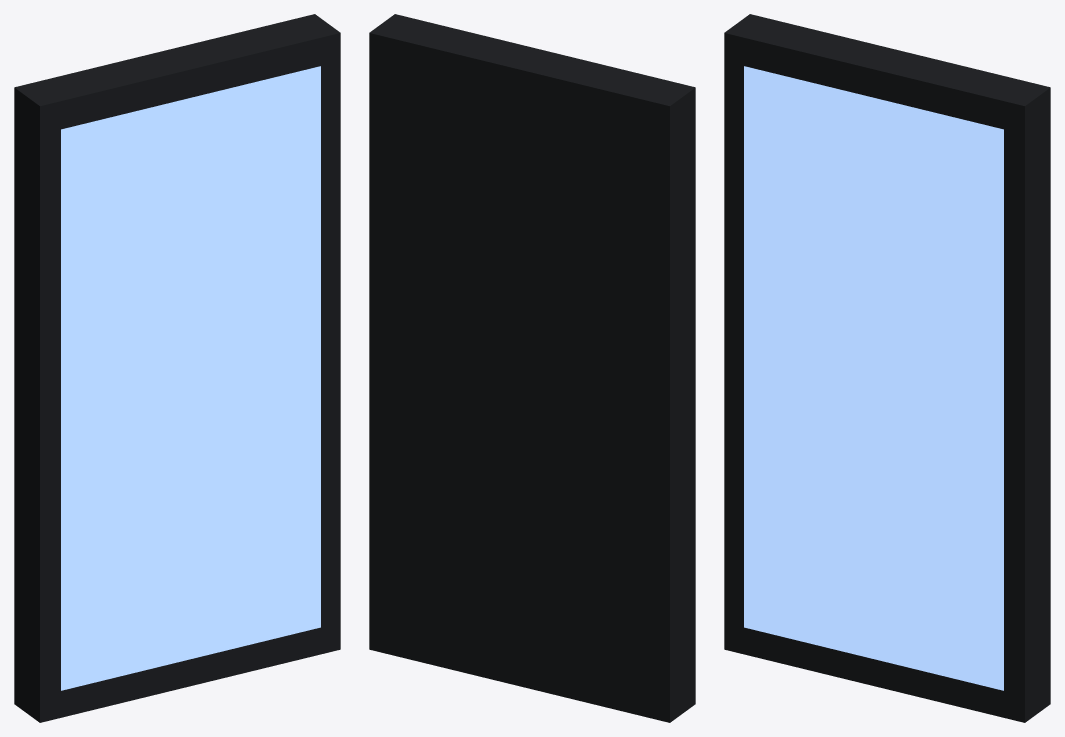
The model's file is prop_phone.fbx.
The picture shows the model from 3 angles, left to right: view 1: azimuth 30°, elevation 25°; view 2: azimuth 150°, elevation 25°; view 3: azimuth 330°, elevation 25°; orthographic projection.
Parts seen in each view (by area): view 1: Prop_Phone_PhoneScreen, Prop_Phone_PhoneBody; view 2: Prop_Phone_PhoneBody; view 3: Prop_Phone_PhoneScreen, Prop_Phone_PhoneBody.
Boxes of the visible parts, box(x1,y1,x2,y2) form: Prop_Phone_PhoneScreen: box(61, 66, 320, 690); Prop_Phone_PhoneBody: box(14, 14, 340, 722); Prop_Phone_PhoneBody: box(369, 14, 695, 722); Prop_Phone_PhoneScreen: box(744, 66, 1003, 690); Prop_Phone_PhoneBody: box(724, 14, 1050, 722).
Bounding box in the file's own units: 0.074 × 0.145 × 0.0113.
